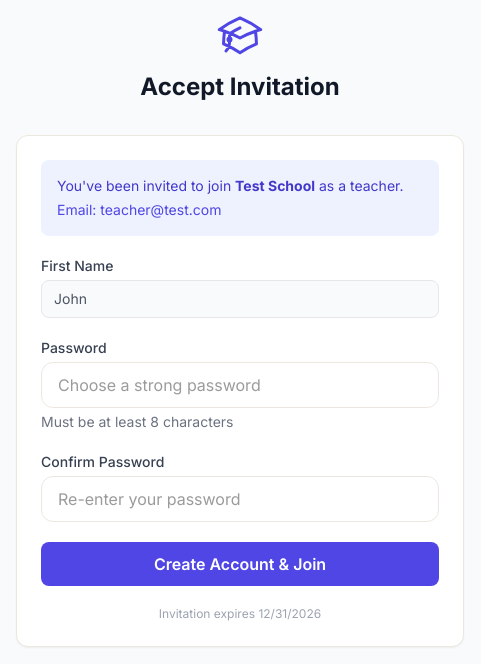
Test: AcceptInvitationPage › form submission › shows "Account Created!" heading on successful acceptance
The image size is (481, 664).
Expected: the text "Test School" is shown, left=235, top=177, right=315, bottom=194
Type "StrongPass123!" into the password field with placeholder "Choose a strong password" at (240, 385), box left=41, top=362, right=439, bottom=408
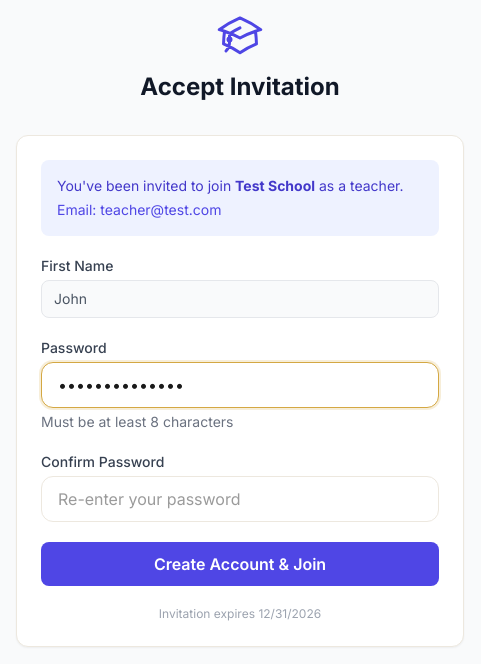
Type "StrongPass123!" into the password field with placeholder "Re-enter your password" at (240, 499), box left=41, top=476, right=439, bottom=522
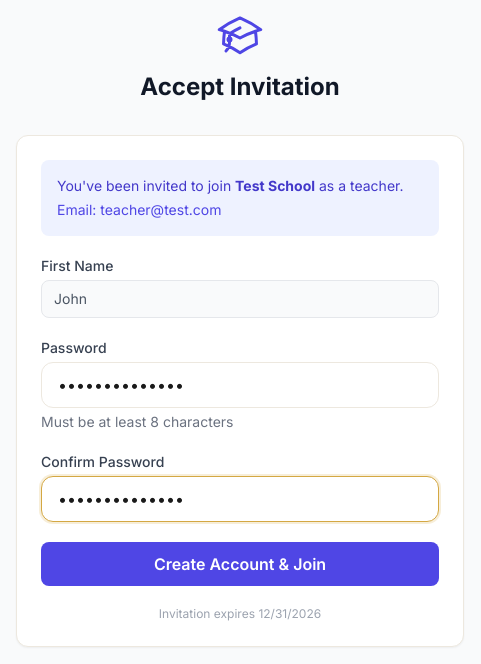
Click the button "Create Account & Join" at (240, 564), box left=41, top=542, right=439, bottom=586
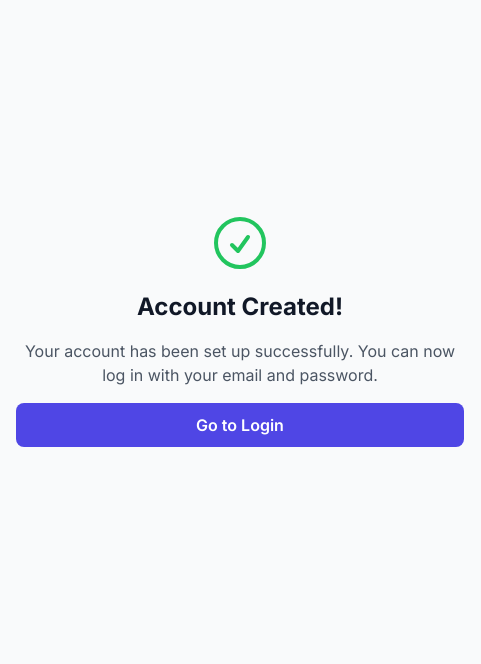
Result: the heading "Account Created!" is shown at left=137, top=292, right=343, bottom=321
